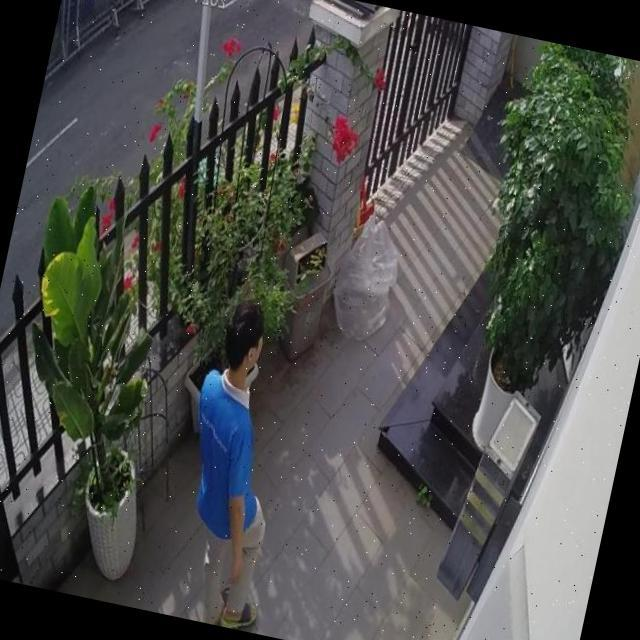person: (154, 288, 322, 633)
